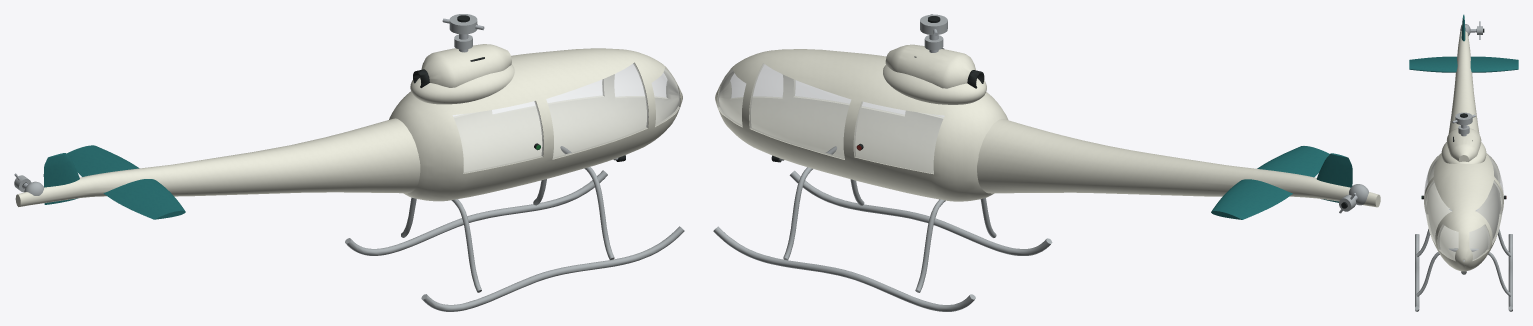
Rendered from police-helicopter.glb.
3 views of the same model, side by side, from view 1: azimuth 30°, elevation 25°; view 2: azimuth 150°, elevation 25°; view 3: azimuth 270°, elevation 25° (orthographic). The views are drawn at different scales.
Parts seen in each view (by area): view 1: Closed engine pod 0, Fitted finite cabin glazing 1 side 1, Closed tail rotor gearbox, Seated vertical tail fin; view 2: Closed engine pod 0, Fitted finite cabin glazing 1 side 1, Closed tail rotor gearbox, Seated vertical tail fin; view 3: Closed engine pod 0, Fitted finite cabin glazing 1 side 1, Closed tail rotor gearbox, Seated vertical tail fin, Continuous main mast, Attached engine grille rib 0 0.
Part boxes in pixels (x1,y1,x2,y2): Closed engine pod 0: (15, 44, 682, 206); Fitted finite cabin glazing 1 side 1: (452, 63, 679, 173); Closed tail rotor gearbox: (14, 14, 684, 311); Seated vertical tail fin: (43, 145, 185, 219); Closed engine pod 0: (715, 44, 1380, 207); Fitted finite cabin glazing 1 side 1: (718, 63, 944, 173); Closed tail rotor gearbox: (713, 14, 1368, 311); Seated vertical tail fin: (1211, 146, 1352, 219); Closed engine pod 0: (1424, 24, 1503, 271); Fitted finite cabin glazing 1 side 1: (1424, 155, 1503, 260); Closed tail rotor gearbox: (1415, 24, 1512, 311); Seated vertical tail fin: (1409, 14, 1518, 72); Continuous main mast: (1452, 21, 1480, 136); Attached engine grille rib 0 0: (1421, 28, 1506, 274).
Size of the model in its own units: 9 by 3.31 by 2.1.
Materials: 9 (5 with a texture image).
